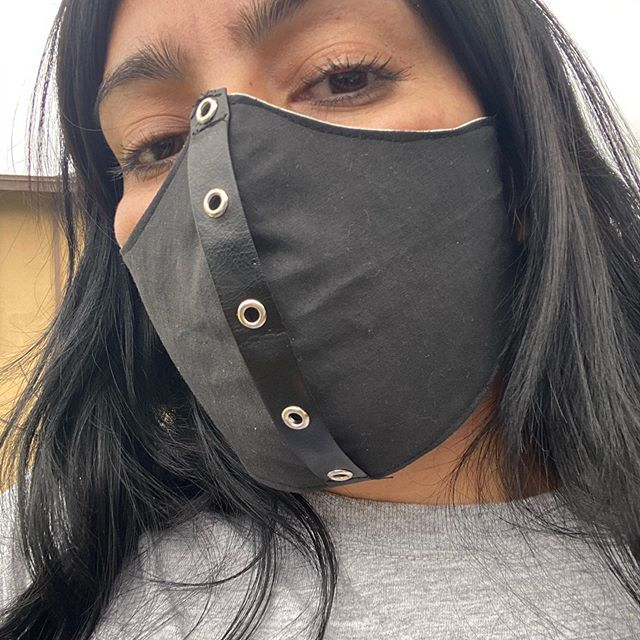homemade: (78, 79, 565, 490)
